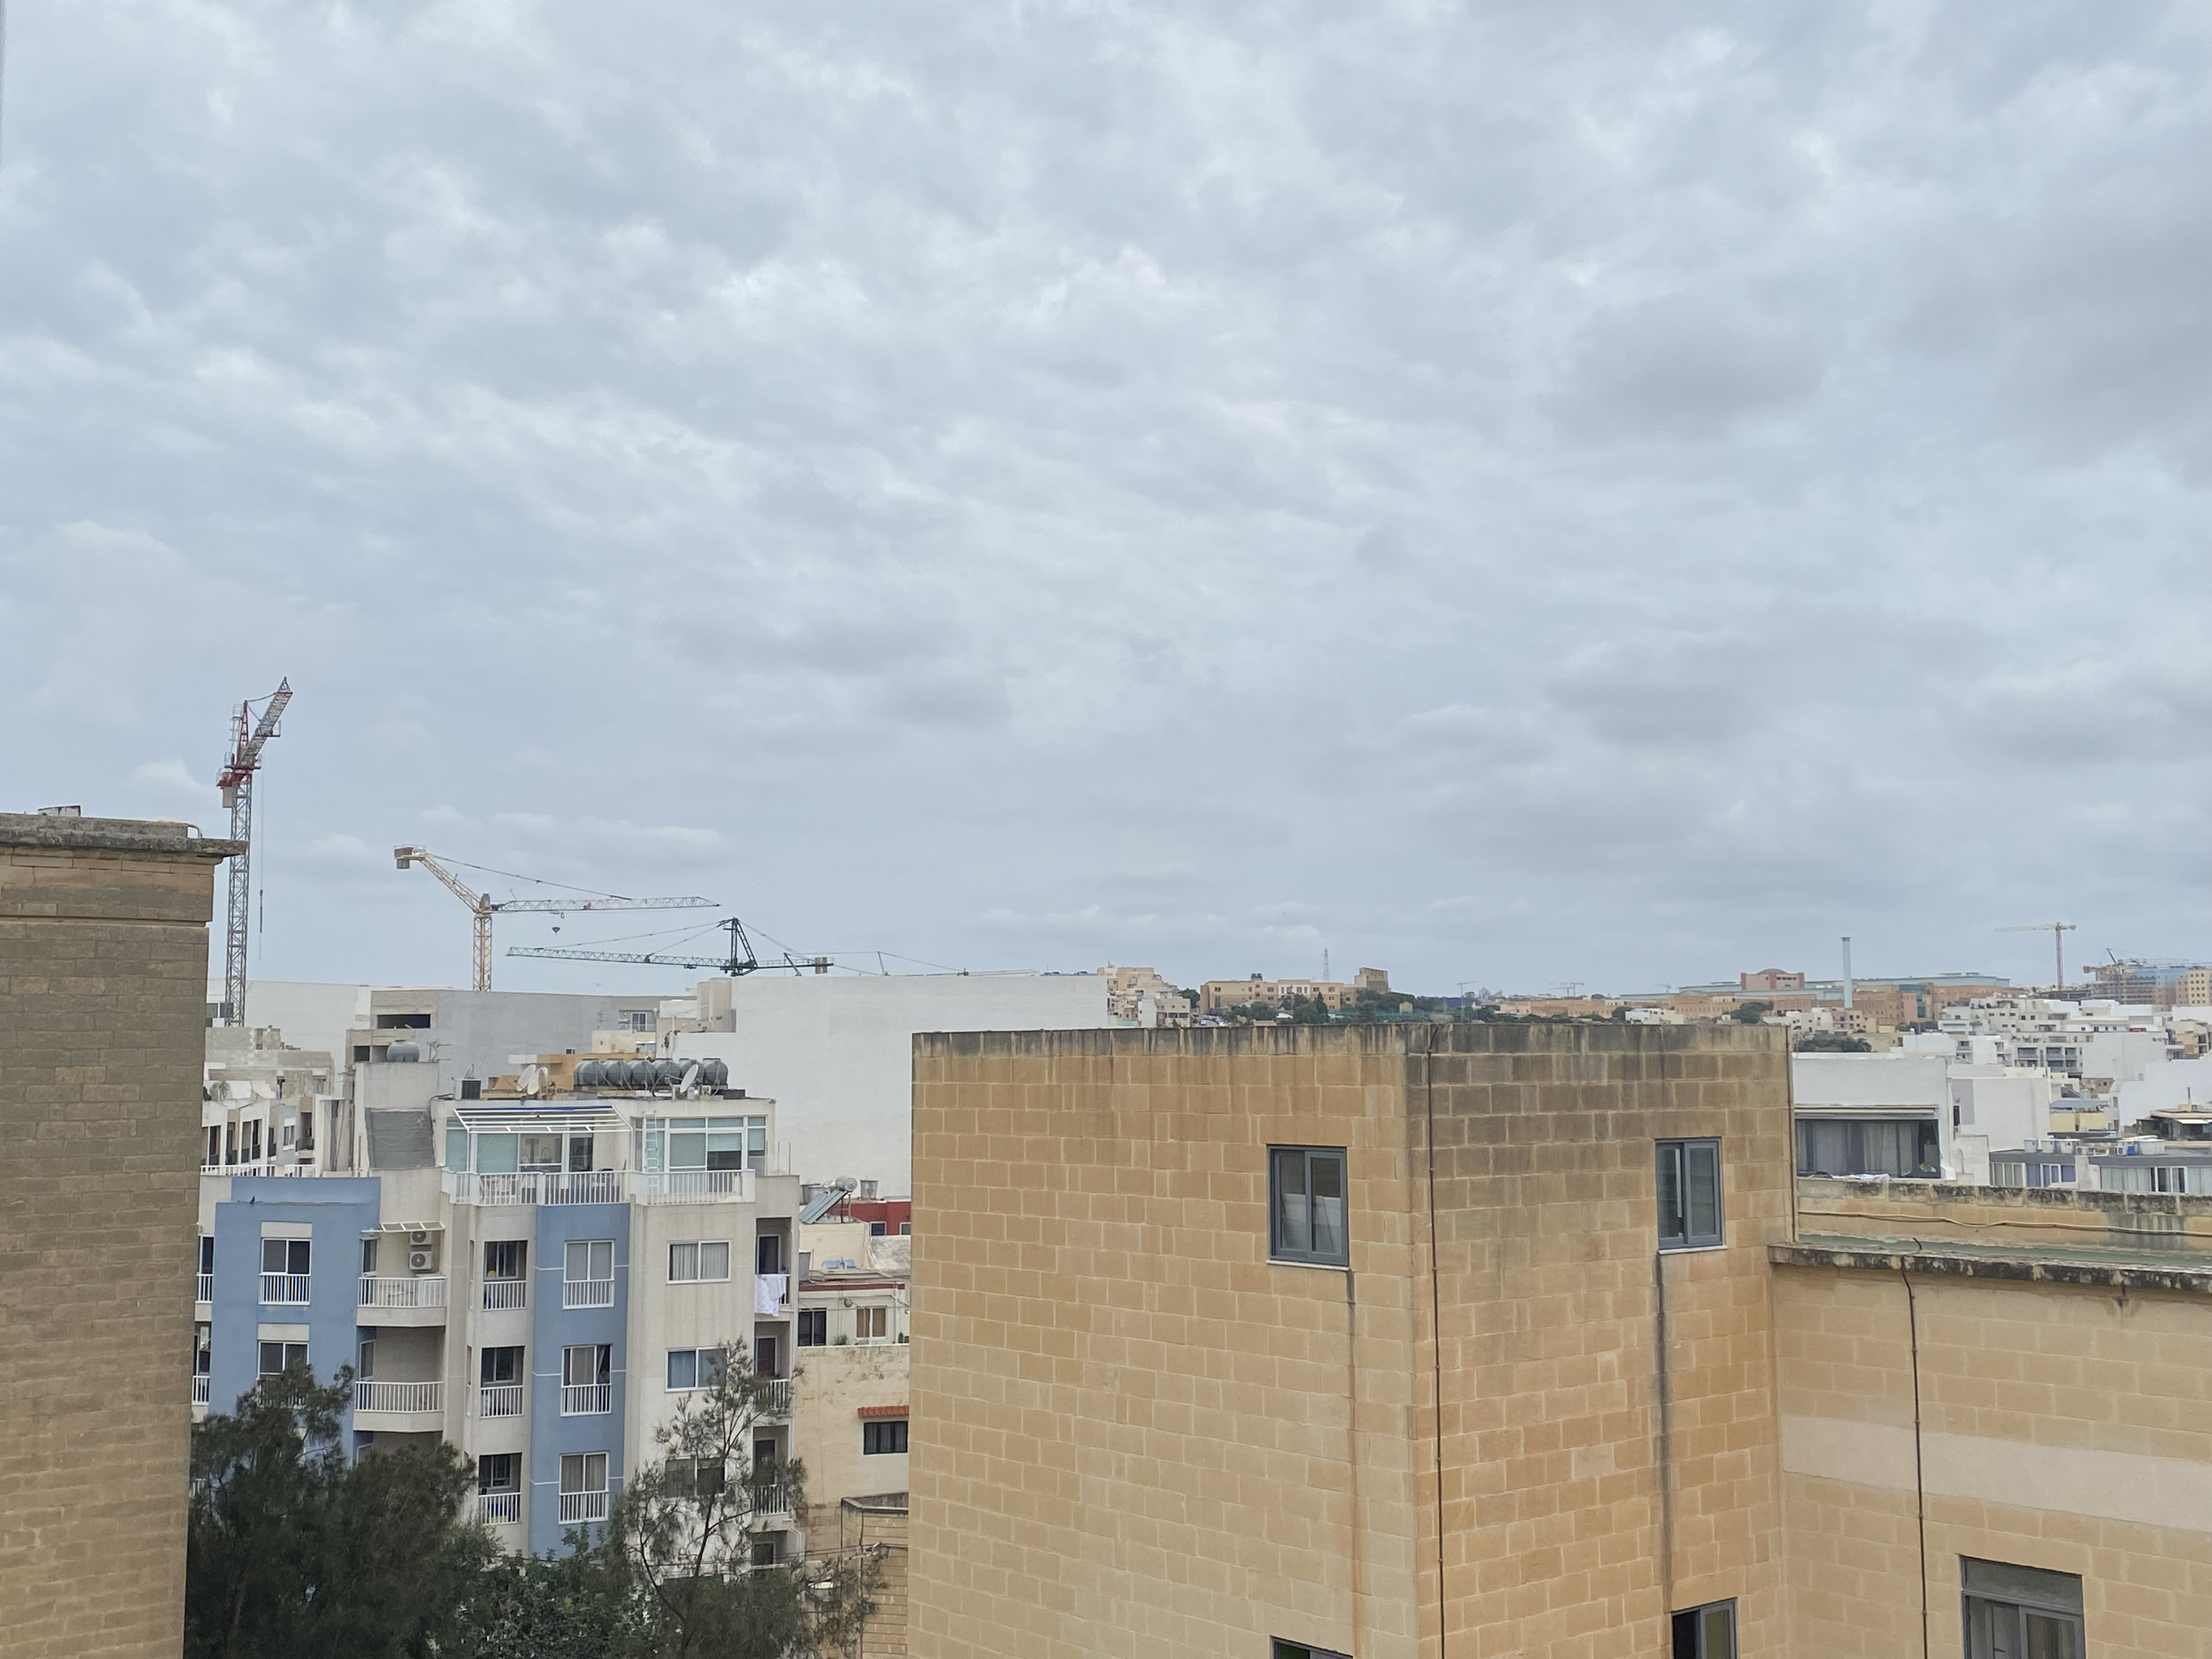Crane: (378, 836, 718, 1002), (202, 664, 305, 1033), (495, 901, 845, 993), (1980, 906, 2080, 1002)
